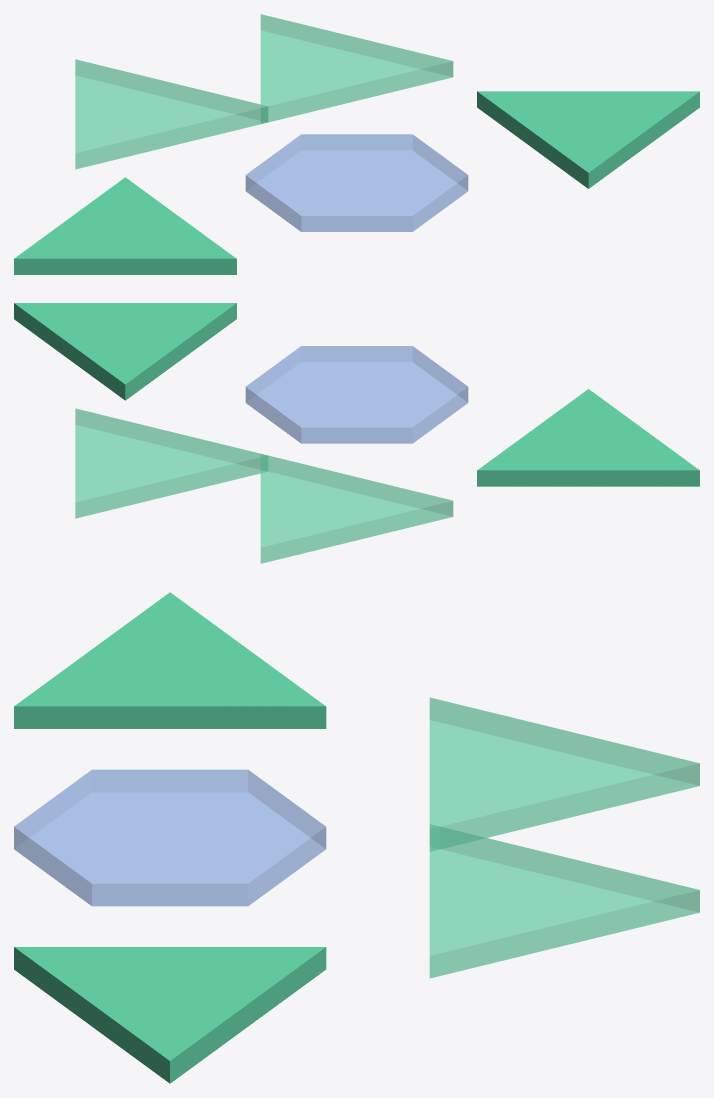
The model's file is stella_step4.glb.
3 renders of one model, top to bottom at view 1: azimuth 30°, elevation 25°; view 2: azimuth 150°, elevation 25°; view 3: azimuth 270°, elevation 25°, orthographic. The views are drawn at different scales.
Visible parts, largest first — view 1: esagono, triangolo_equilatero.003, triangolo_equilatero.002, triangolo_equilatero.001, triangolo_equilatero; view 2: esagono, triangolo_equilatero.002, triangolo_equilatero.003, triangolo_equilatero, triangolo_equilatero.001; view 3: esagono, triangolo_equilatero.002, triangolo_equilatero.003, triangolo_equilatero.001, triangolo_equilatero.
Boxes of the visible parts, x1,y1,x2,y2 form: esagono: (245, 134, 468, 231); triangolo_equilatero.003: (477, 91, 699, 188); triangolo_equilatero.002: (14, 177, 236, 274); triangolo_equilatero.001: (260, 14, 453, 123); triangolo_equilatero: (75, 59, 267, 169); esagono: (245, 346, 468, 443); triangolo_equilatero.002: (477, 389, 699, 486); triangolo_equilatero.003: (14, 303, 236, 400); triangolo_equilatero: (260, 454, 453, 563); triangolo_equilatero.001: (75, 408, 267, 518); esagono: (14, 769, 326, 906); triangolo_equilatero.002: (14, 592, 326, 728); triangolo_equilatero.003: (14, 947, 326, 1083); triangolo_equilatero.001: (429, 824, 699, 978); triangolo_equilatero: (429, 697, 699, 851).
Bounding box in the file's own units: 3.55 × 0.08 × 2.2.
